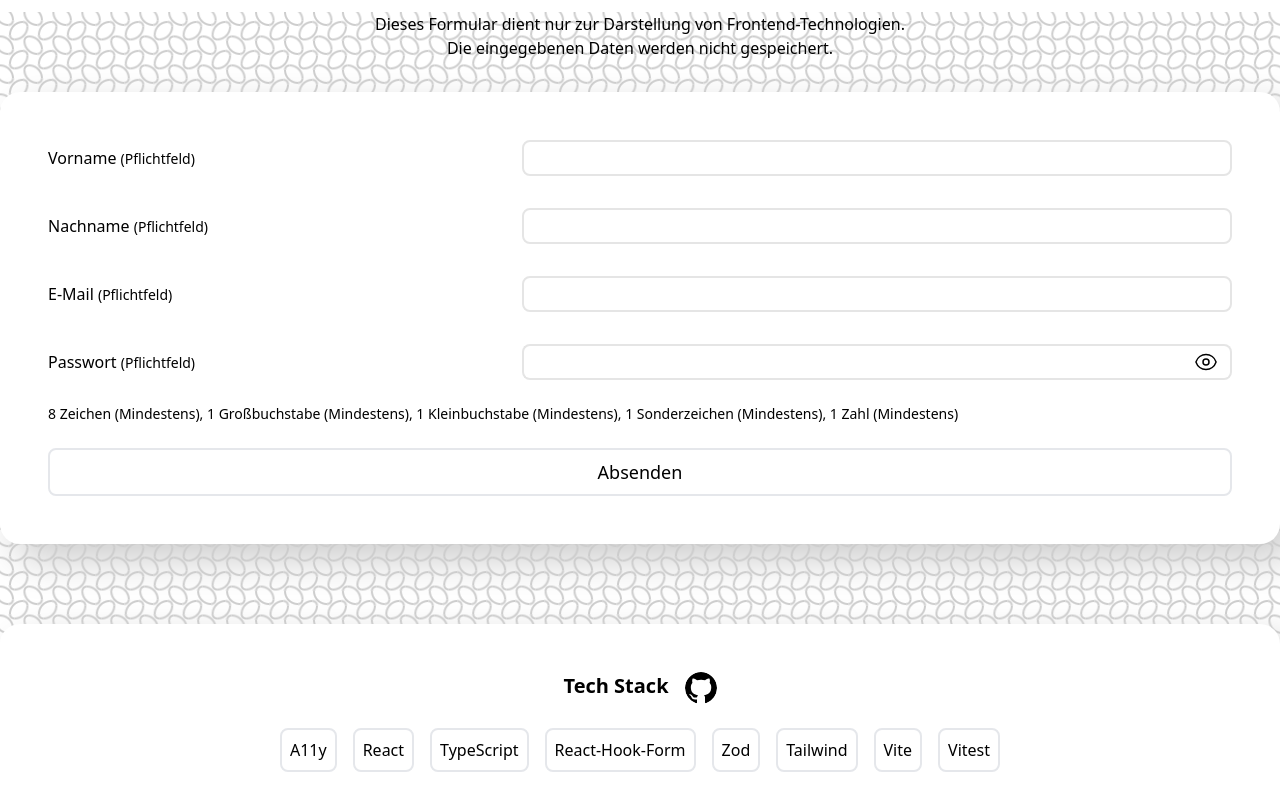
Test: Registration Form › should be invalid and display an error message if email not fit regex
Type "a" into the field labelled "E-Mail (Pflichtfeld)".
click(877, 294); type("a")  # box [522,276,1232,312]
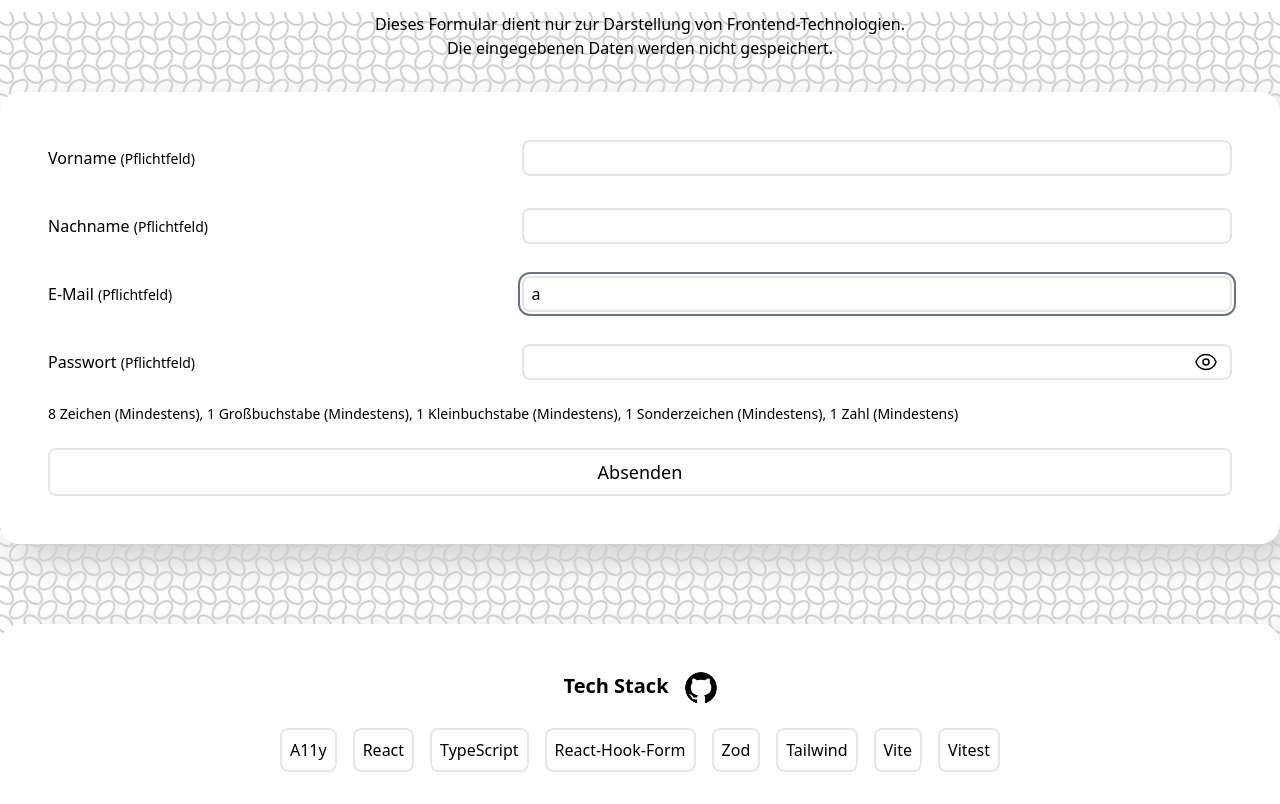
// Field must be touched to display an error.
Press Tab
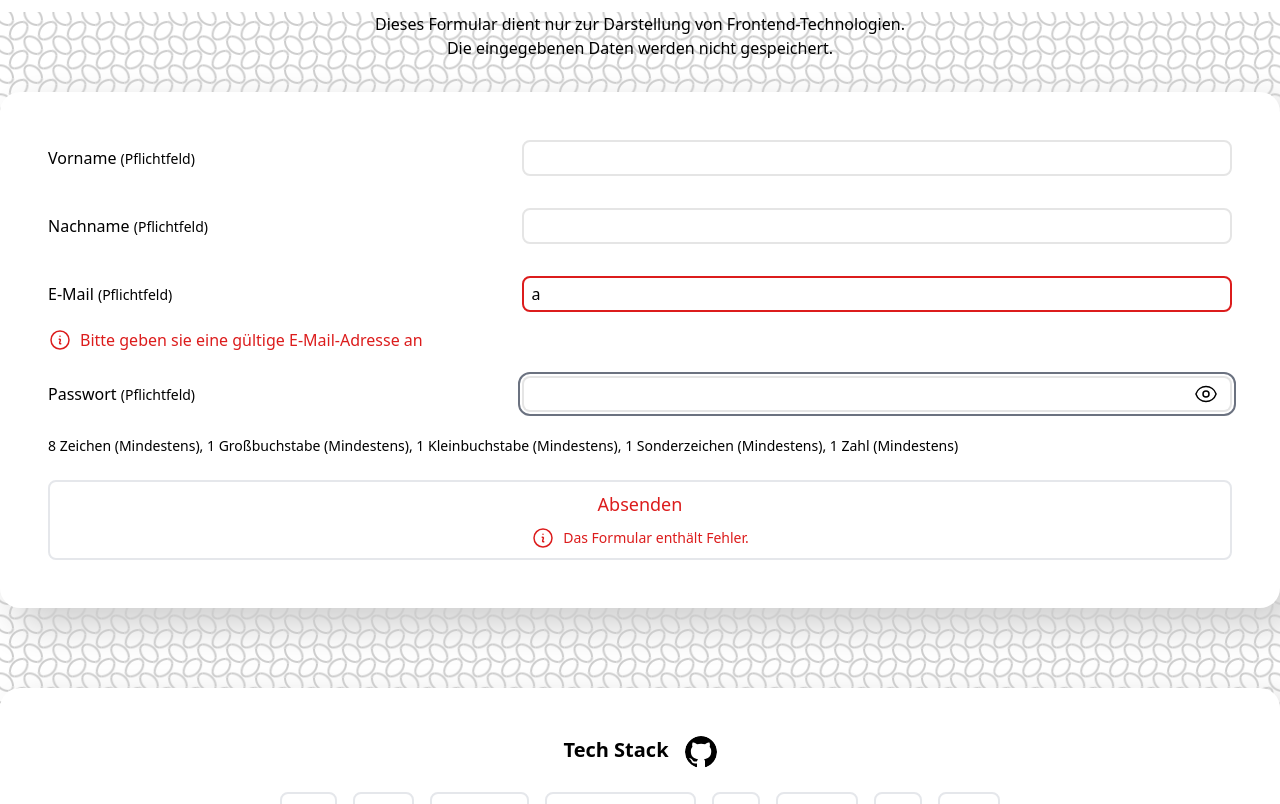
Expected: the message shows "Mail", [80,329,423,351]
